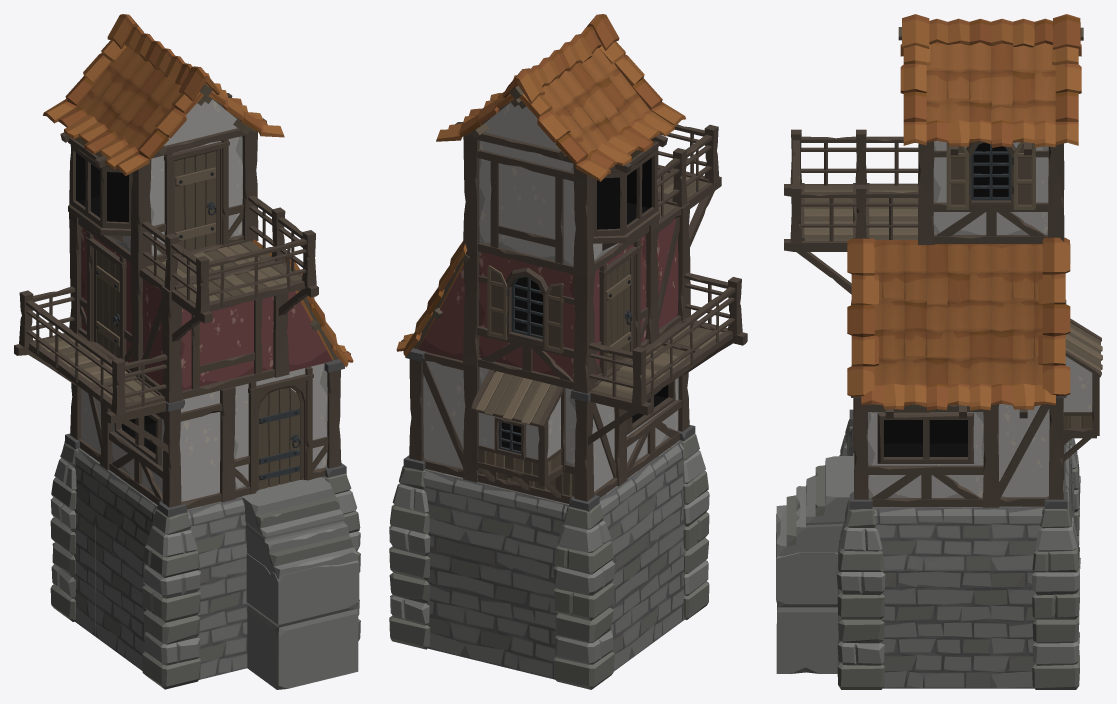
Rendered from SM_Bld_Preset_House_08_Optimized.glb.
The picture shows the model from 3 angles, left to right: view 1: azimuth 30°, elevation 25°; view 2: azimuth 150°, elevation 25°; view 3: azimuth 270°, elevation 25°; orthographic projection. The views are drawn at different scales.
Visible parts, largest first — view 1: SM_Bld_Preset_House_08_Optimized; view 2: SM_Bld_Preset_House_08_Optimized; view 3: SM_Bld_Preset_House_08_Optimized.
Boxes of the visible parts, box(x1,y1,x2,y2) form: SM_Bld_Preset_House_08_Optimized: box(14, 14, 360, 689); SM_Bld_Preset_House_08_Optimized: box(389, 14, 747, 689); SM_Bld_Preset_House_08_Optimized: box(776, 14, 1102, 689).
Size of the model in its own units: 5.96 by 12.99 by 6.29.
Materials: 1 (1 with a texture image).
